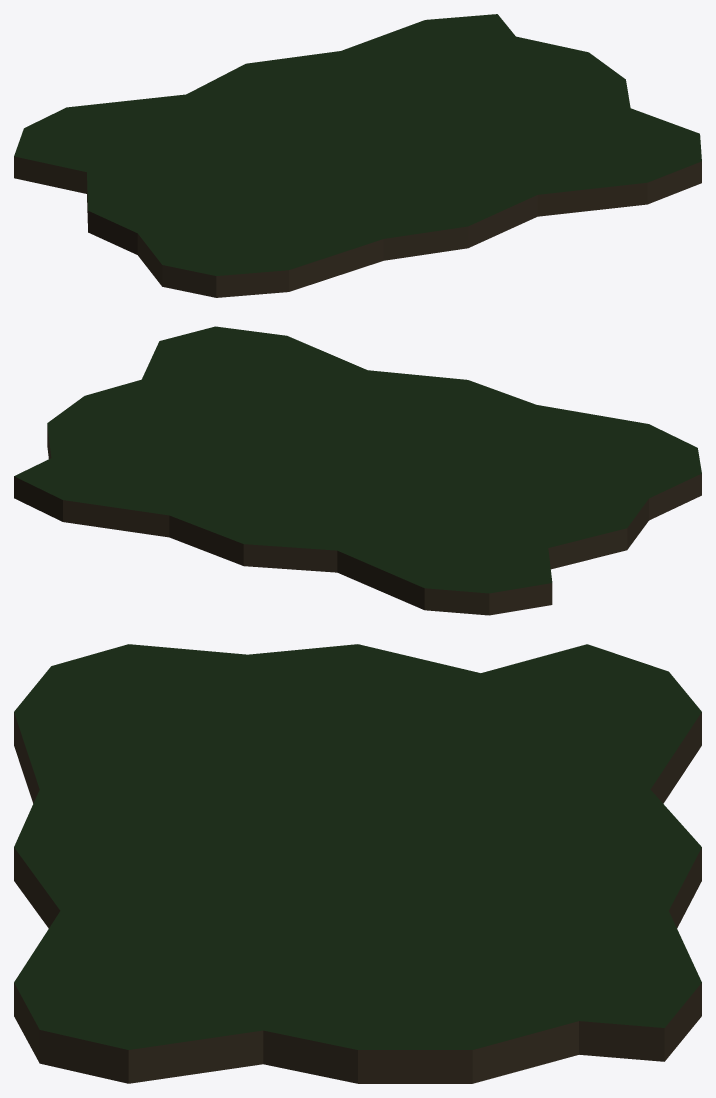
The model's file is Escenario.fbx.
3 views of the same model, one above another, from view 1: azimuth 30°, elevation 25°; view 2: azimuth 150°, elevation 25°; view 3: azimuth 270°, elevation 25° (orthographic). The views are drawn at different scales.
Visible parts, largest first — view 1: terreno; view 2: terreno; view 3: terreno.
Boxes of the visible parts, x1=… form: terreno: x1=14, y1=14, x2=701, y2=297; terreno: x1=14, y1=326, x2=701, y2=615; terreno: x1=14, y1=644, x2=701, y2=1083.
Bounding box in the file's own units: 37905 × 1470 × 27149.
